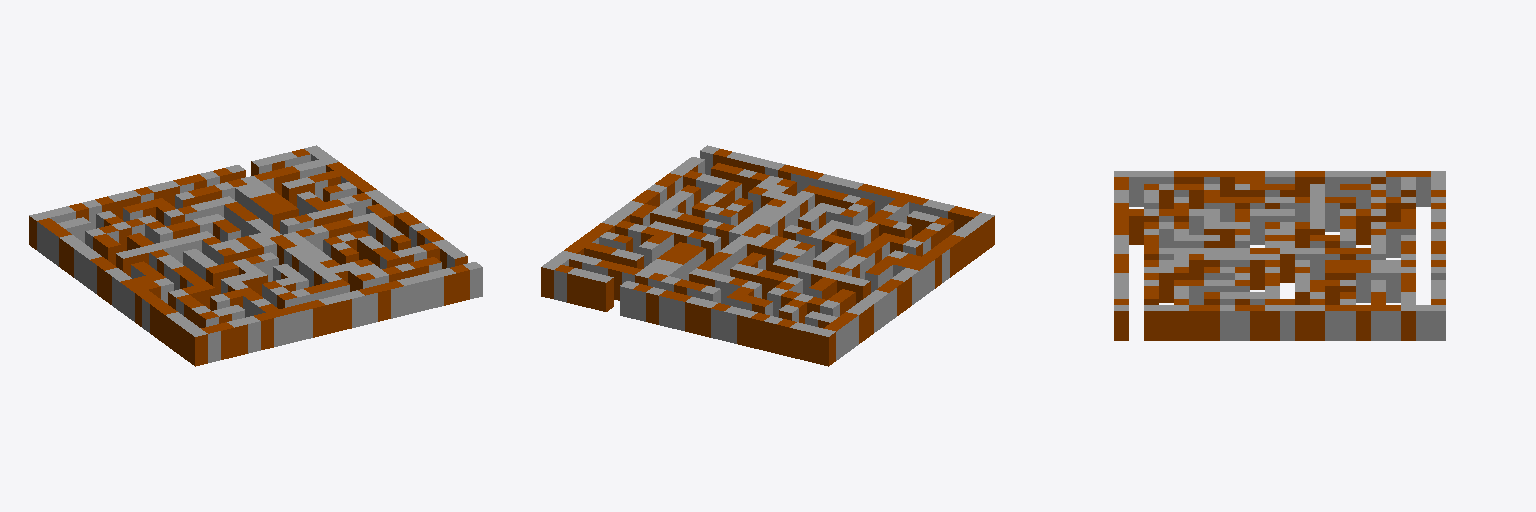
File: new_maze.obj
The picture shows the model from 3 angles: view 1: azimuth 30°, elevation 25°; view 2: azimuth 150°, elevation 25°; view 3: azimuth 270°, elevation 25°; orthographic projection.
Parts seen in each view (by area): view 1: Figure_1; view 2: Figure_1; view 3: Figure_1.
Part boxes in pixels (bbox=[...]): Figure_1: bbox=[29, 145, 482, 366]; Figure_1: bbox=[541, 145, 994, 366]; Figure_1: bbox=[1114, 171, 1445, 340].
Size of the model in its own units: 35.37 by 3.46 by 35.37.